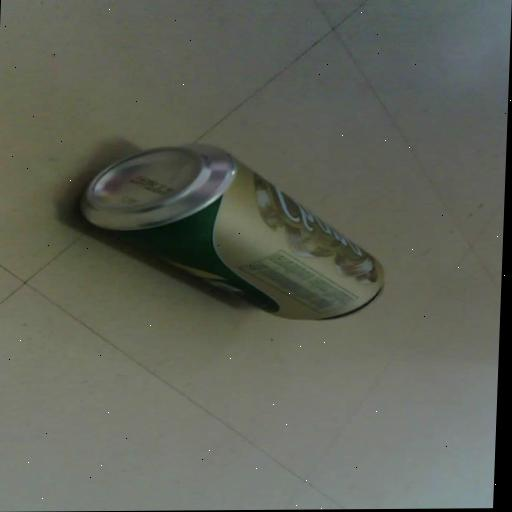canned: (61, 136, 417, 330)
